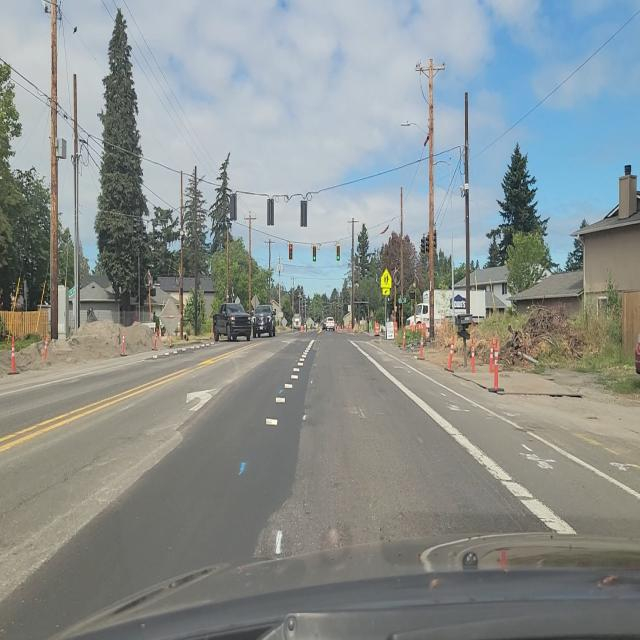car: (212, 302, 252, 342), (251, 304, 277, 339), (324, 316, 335, 332)
crosswalk-sign: (380, 269, 392, 295)
delineator: (448, 336, 456, 371), (489, 336, 495, 374), (10, 336, 16, 374), (42, 335, 50, 363), (470, 337, 476, 372), (494, 336, 499, 374), (419, 332, 424, 360), (152, 328, 158, 350), (121, 331, 125, 356), (402, 326, 406, 350), (168, 326, 172, 348), (210, 325, 214, 341), (299, 323, 303, 332)
